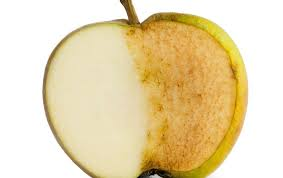damaged_apple: (46, 15, 249, 176)
